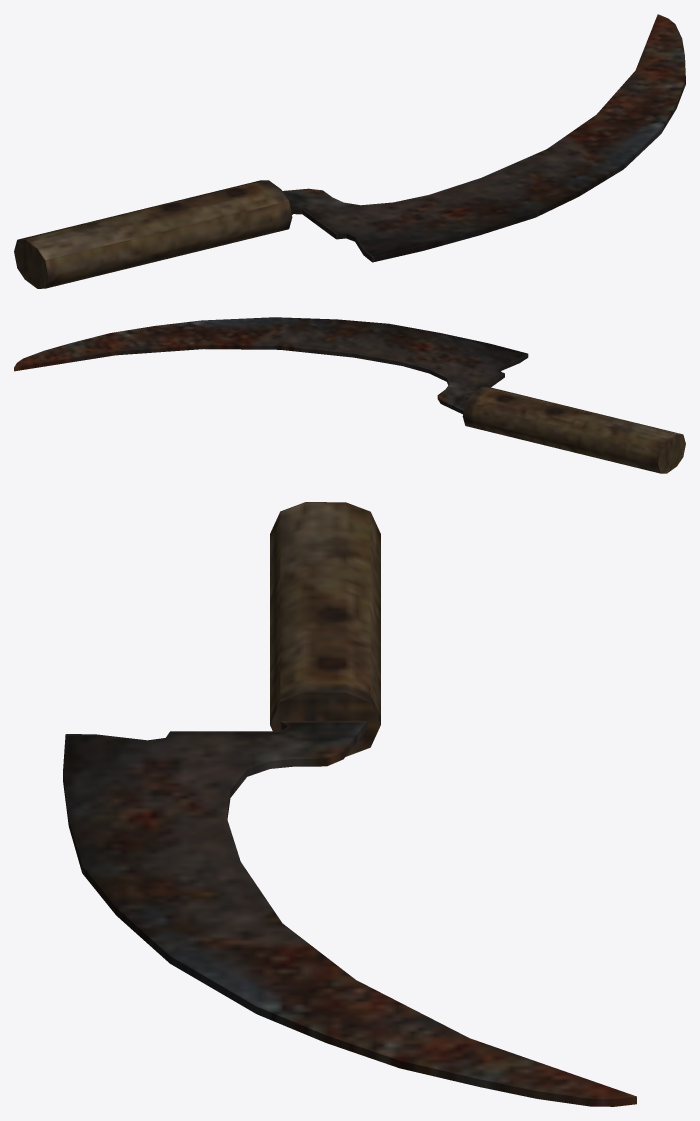
Rendered from sickle_mx_1_1.fbx.
3 views of the same model, one above another, from view 1: azimuth 30°, elevation 25°; view 2: azimuth 150°, elevation 25°; view 3: azimuth 270°, elevation 25° (orthographic). The views are drawn at different scales.
Parts seen in each view (by area): view 1: sickle_mx_1.001; view 2: sickle_mx_1.001; view 3: sickle_mx_1.001.
Boxes of the visible parts, left/top/right/bottom form: sickle_mx_1.001: left=14, top=14, right=685, bottom=288; sickle_mx_1.001: left=14, top=317, right=685, bottom=473; sickle_mx_1.001: left=63, top=502, right=636, bottom=1106.
Size of the model in its own units: 0.4752 by 0.2027 by 0.025.
